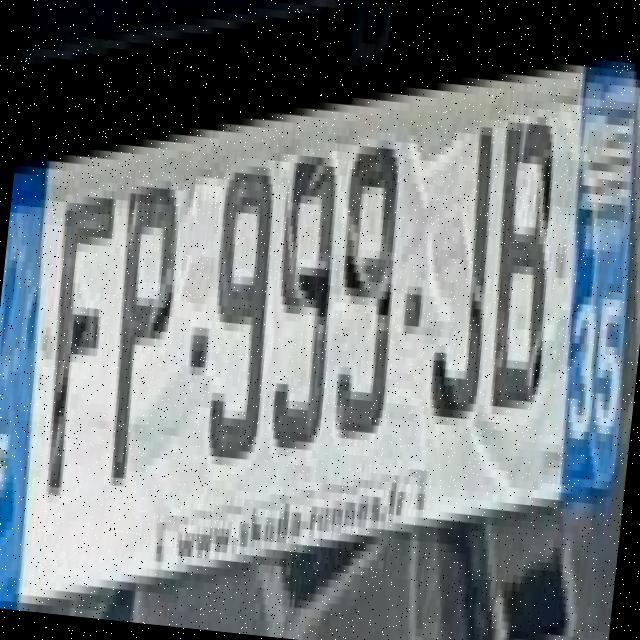EU: (0, 62, 640, 589)
France: (0, 166, 49, 600)
